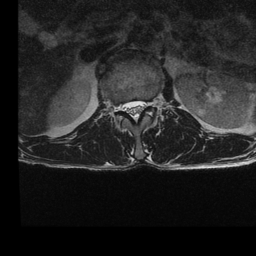CCS_normal: (131, 93, 138, 126)
LFS_stenosis: (146, 95, 154, 112)
LLS_normal: (138, 95, 146, 116)
RFS_normal: (115, 97, 123, 118)
RLS_normal: (123, 94, 131, 119)
